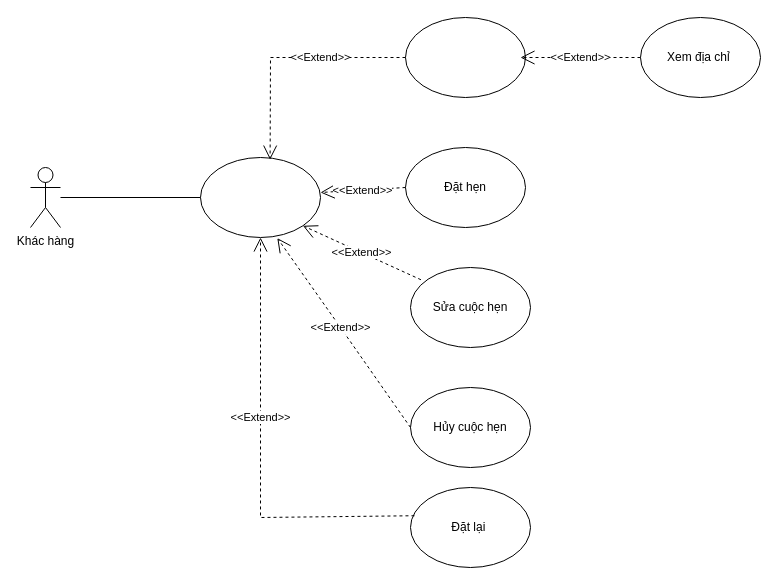
Image size: 778x585. Some labels were removed from this diagram. Here are the shapes that lost their labels. From the top down, the centre of each, then its label:
At pixel 465 57: "Xem cuộc hẹn".
At pixel 260 197: "Quản lý cuộc hẹn".
